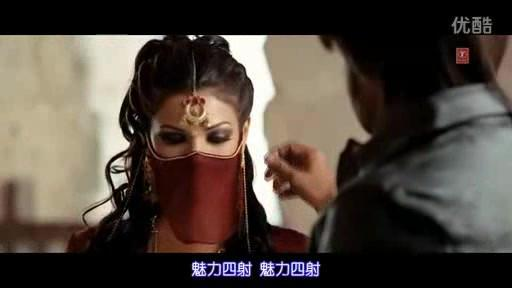OK: (156, 118, 237, 199)
